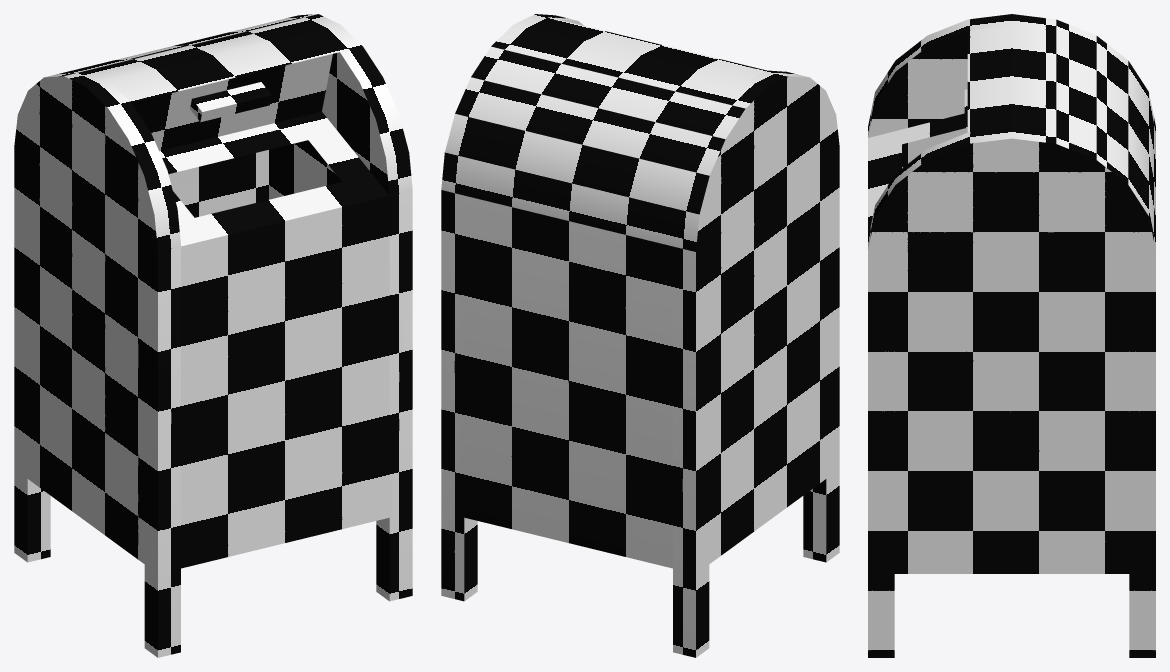
The model's file is Mail.fbx.
The picture shows the model from 3 angles, left to right: view 1: azimuth 30°, elevation 25°; view 2: azimuth 150°, elevation 25°; view 3: azimuth 270°, elevation 25°; orthographic projection.
Visible parts, largest first — view 1: Model; view 2: Model; view 3: Model.
Boxes of the visible parts, x1=… form: Model: x1=14, y1=14, x2=412, y2=657; Model: x1=441, y1=14, x2=839, y2=657; Model: x1=868, y1=14, x2=1155, y2=657.
Size of the model in its own units: 0.5588 by 1.09 by 0.5461.
